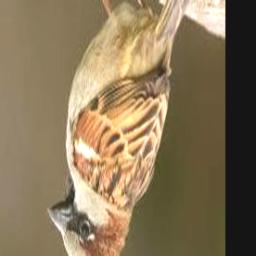Sparrow: (46, 0, 198, 256)
